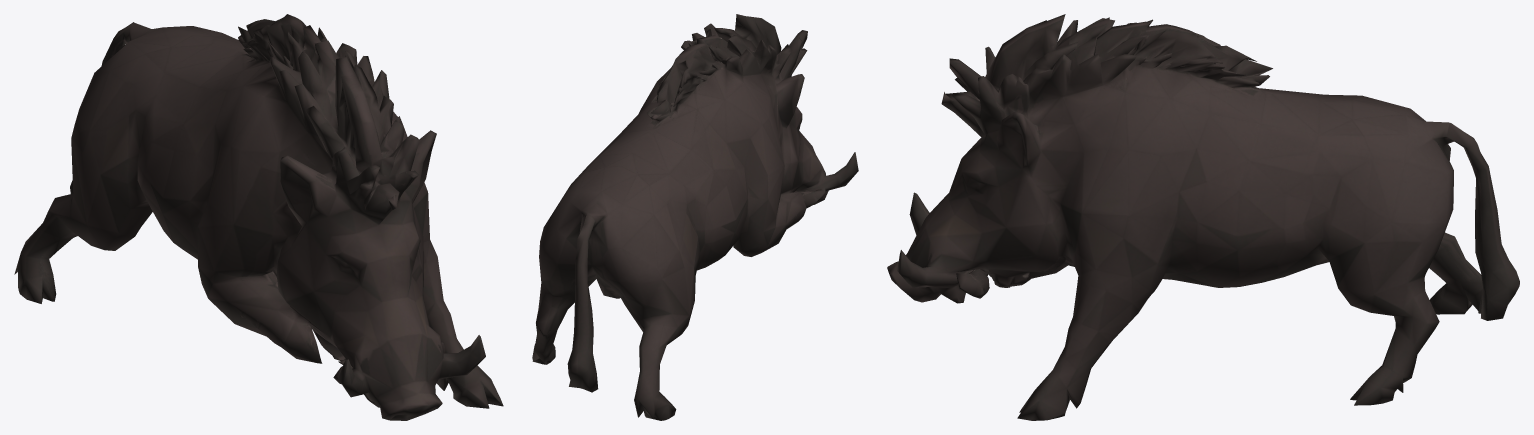
File: Meshy_AI_Shadowtusk_0811082449_texture.glb
3 renders of one model, left to right at view 1: azimuth 30°, elevation 25°; view 2: azimuth 150°, elevation 25°; view 3: azimuth 270°, elevation 25°, orthographic. The views are drawn at different scales.
Parts seen in each view (by area): view 1: Mesh1.0; view 2: Mesh1.0; view 3: Mesh1.0.
Part boxes in pixels (box(x1,y1,x2,y2)): Mesh1.0: box(14, 14, 503, 420); Mesh1.0: box(532, 14, 858, 420); Mesh1.0: box(887, 14, 1519, 420).
Bounding box in the file's own units: 0.8311 × 1.13 × 1.9.
1 material, 1 textured.
